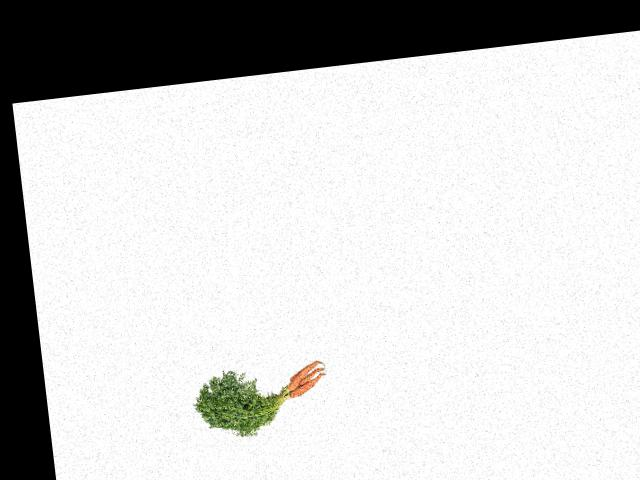carrot: (282, 360, 320, 390)
